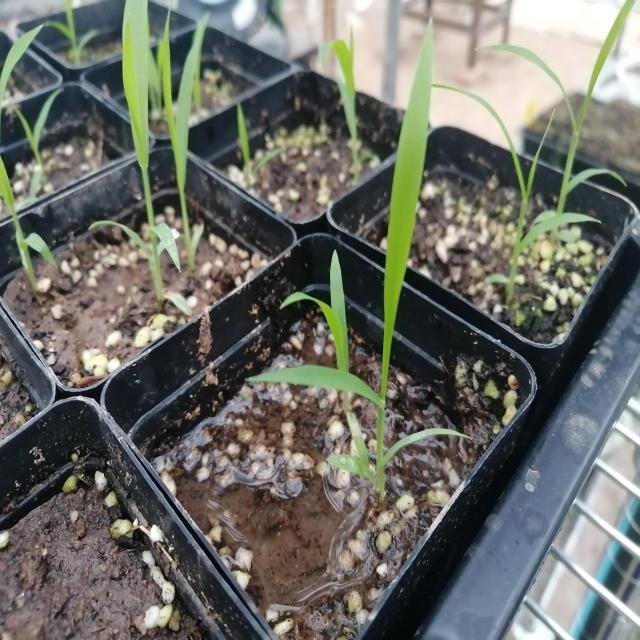crabgrass: (297, 31, 488, 483), (100, 5, 222, 260)
